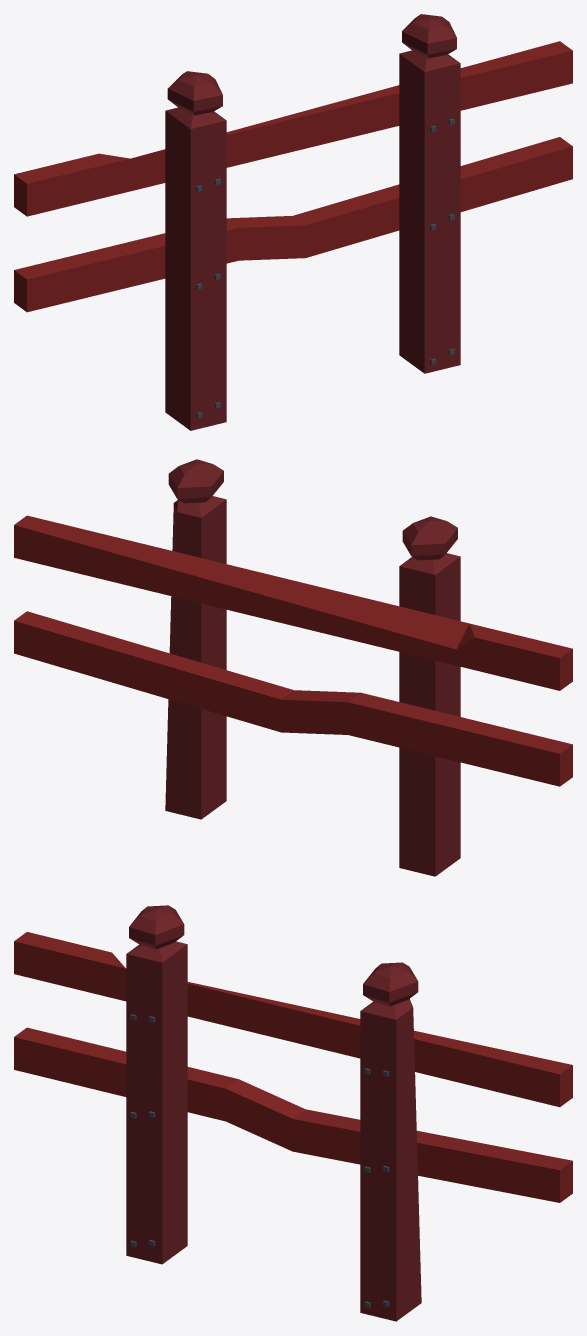
File: Fence_3_2 Asia.fbx
3 renders of one model, top to bottom at view 1: azimuth 30°, elevation 25°; view 2: azimuth 150°, elevation 25°; view 3: azimuth 330°, elevation 25°, orthographic.
Parts seen in each view (by area): view 1: Fence_3_2; view 2: Fence_3_2; view 3: Fence_3_2.
Boxes of the visible parts, left/top/right/bottom form: Fence_3_2: left=14, top=14, right=572, bottom=430; Fence_3_2: left=14, top=459, right=572, bottom=876; Fence_3_2: left=14, top=905, right=572, bottom=1321.
Bounding box in the file's own units: 1.73 × 1.04 × 0.222.
